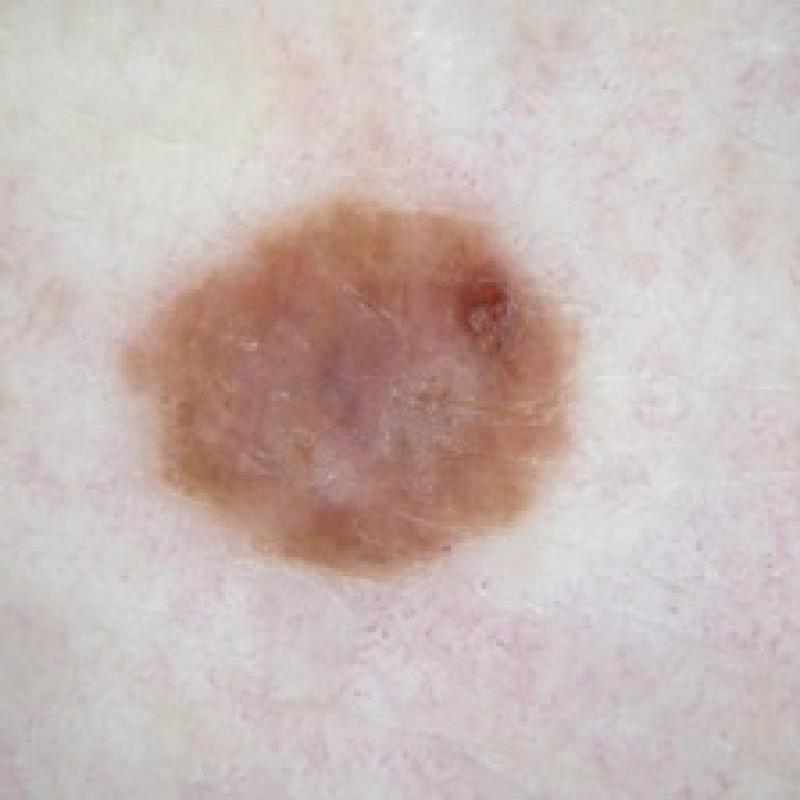malignant: (99, 179, 629, 604)
